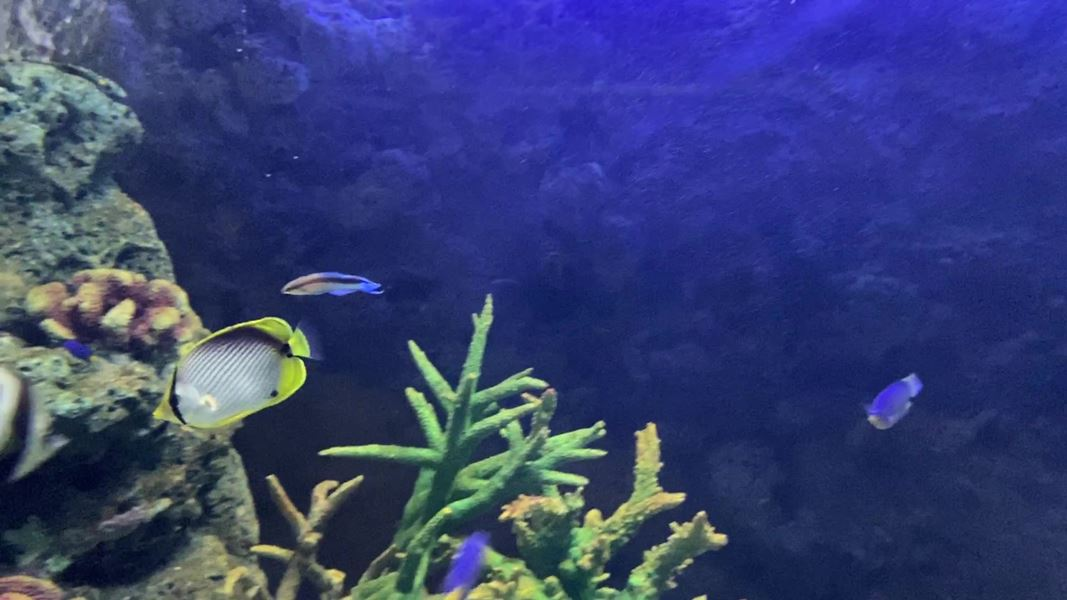Bluesteak cleaner wrasse: (273, 263, 393, 311)
